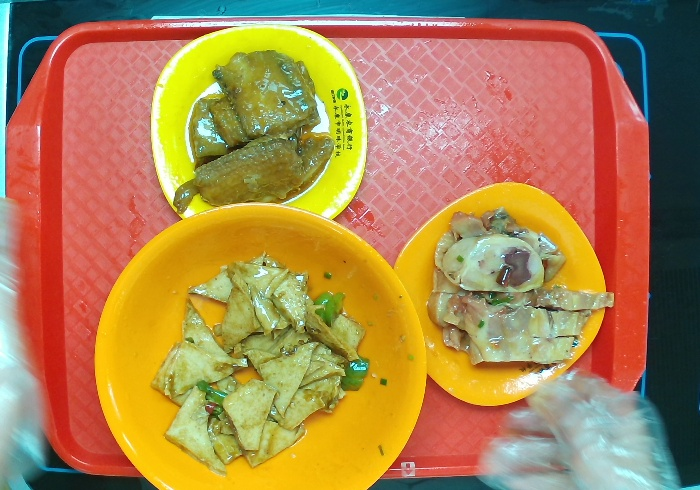YKMZ-Huang_Se_Fang_Die: (148, 22, 369, 221)
YKMZ-Ju_Se_Fang_Die: (392, 180, 608, 407)
YKMZ-Ju_Se_Tang_Wan: (93, 200, 428, 490)
